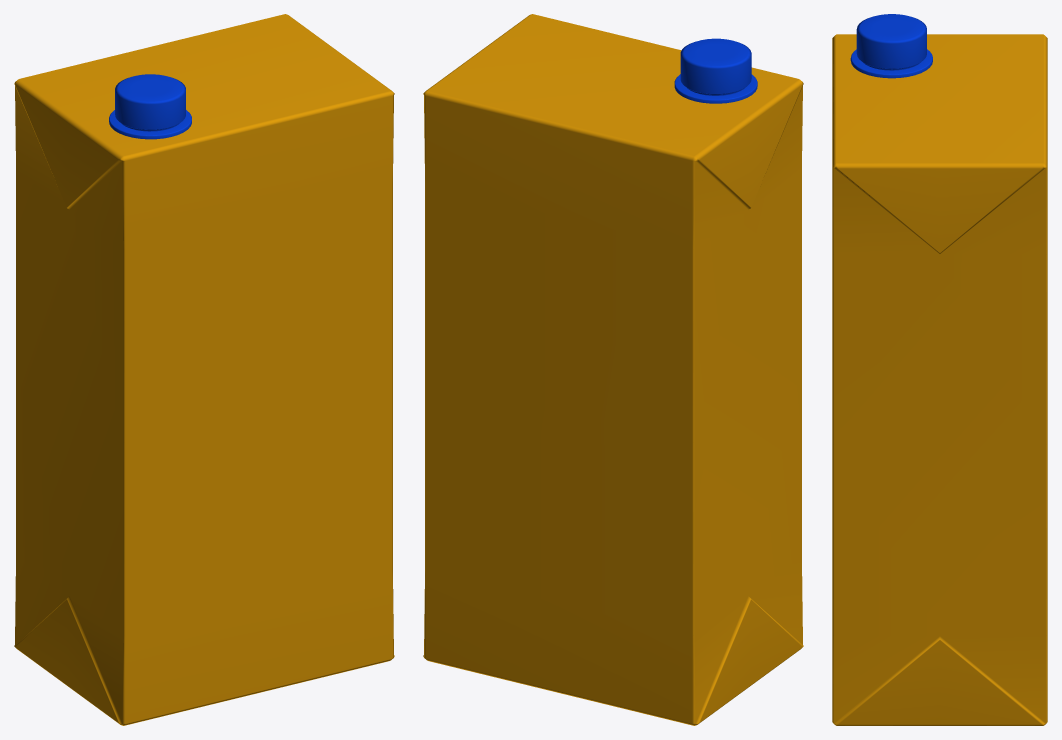
The picture shows the model from 3 angles, left to right: view 1: azimuth 30°, elevation 25°; view 2: azimuth 150°, elevation 25°; view 3: azimuth 270°, elevation 25°; orthographic projection.
Visible parts, largest first — view 1: SM_Juice; view 2: SM_Juice; view 3: SM_Juice.
Boxes of the visible parts, x1=… form: SM_Juice: x1=14, y1=14, x2=394, y2=725; SM_Juice: x1=423, y1=14, x2=803, y2=725; SM_Juice: x1=832, y1=14, x2=1047, y2=725.
Bounding box in the file's own units: 0.955 × 2 × 0.6539.
